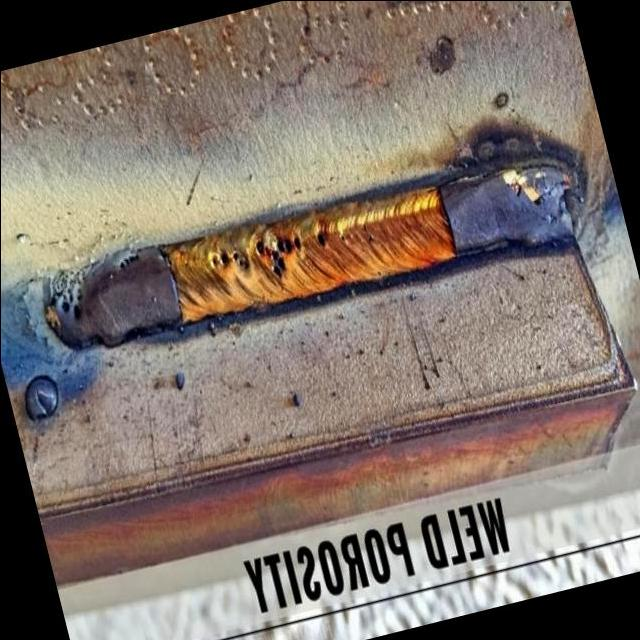defect: (252, 229, 305, 285), (51, 260, 95, 322), (209, 248, 249, 271), (117, 251, 141, 270), (360, 220, 375, 242), (316, 228, 329, 251), (337, 228, 347, 242)
